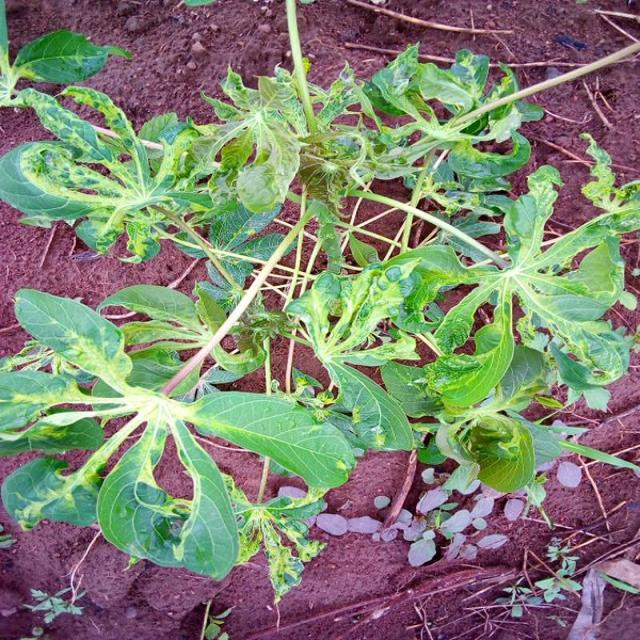cassava leaf: (0, 32, 638, 601), (186, 388, 357, 491)
